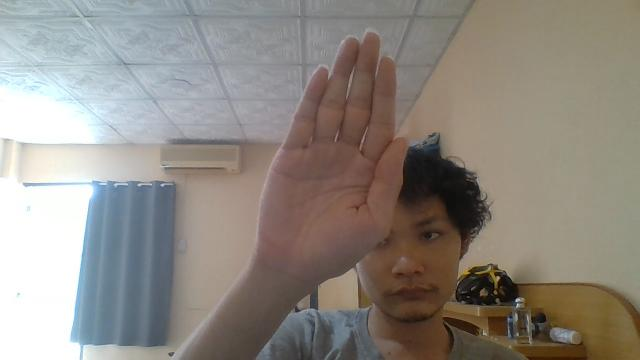Stop: (254, 29, 408, 287)
